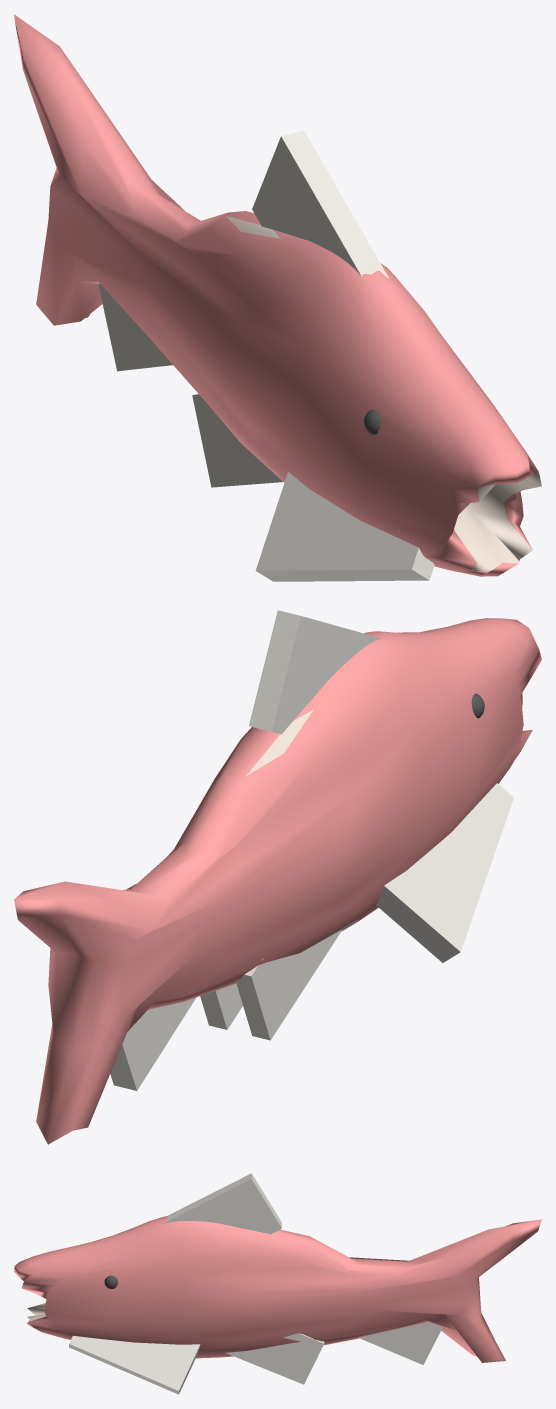
File: salmon.fbx
The picture shows the model from 3 angles, top to bottom: view 1: azimuth 30°, elevation 25°; view 2: azimuth 150°, elevation 25°; view 3: azimuth 270°, elevation 25°; orthographic projection. The views are drawn at different scales.
Visible parts, largest first — view 1: pSphere49, pCube15, pCube12, pCube13, pCube17; view 2: pSphere49, pCube15, pCube12, pCube13, pCube17, pCube16; view 3: pSphere49, pCube14, pCube12, pCube16, pCube17.
Part boxes in pixels (bbox=[...]): pSphere49: bbox=[14, 14, 541, 576]; pCube15: bbox=[255, 472, 434, 581]; pCube12: bbox=[252, 130, 389, 278]; pCube13: bbox=[192, 393, 282, 487]; pCube17: bbox=[98, 284, 172, 371]; pSphere49: bbox=[14, 618, 541, 1144]; pCube15: bbox=[376, 783, 513, 962]; pCube12: bbox=[249, 610, 381, 734]; pCube13: bbox=[236, 929, 342, 1040]; pCube17: bbox=[110, 997, 196, 1090]; pCube16: bbox=[200, 983, 242, 1029]; pSphere49: bbox=[14, 1216, 541, 1362]; pCube14: bbox=[69, 1335, 200, 1394]; pCube12: bbox=[163, 1173, 281, 1234]; pCube16: bbox=[225, 1333, 324, 1384]; pCube17: bbox=[358, 1321, 442, 1364].
Size of the model in its own units: 1.55 by 2.84 by 6.76.
